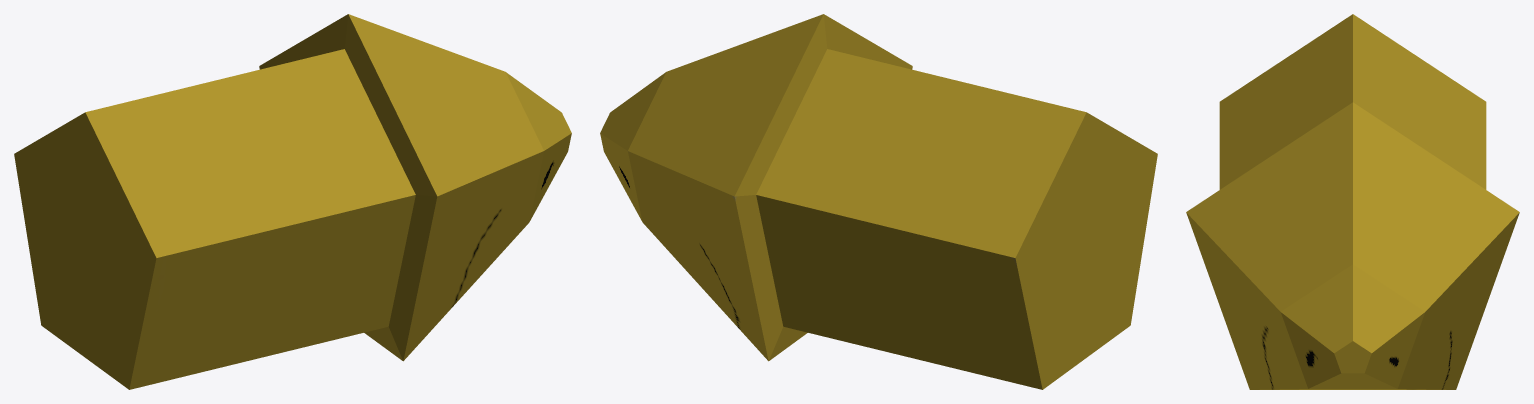
The model's file is pocisk.fbx.
3 renders of one model, left to right at view 1: azimuth 30°, elevation 25°; view 2: azimuth 150°, elevation 25°; view 3: azimuth 270°, elevation 25°, orthographic. The views are drawn at different scales.
Visible parts, largest first — view 1: Cylinder; view 2: Cylinder; view 3: Cylinder.
Part boxes in pixels (box(x1,y1,x2,y2)): Cylinder: box(14, 14, 571, 389); Cylinder: box(600, 14, 1157, 389); Cylinder: box(1186, 14, 1519, 389).
Bounding box in the file's own units: 34.8 × 21.43 × 22.54.
